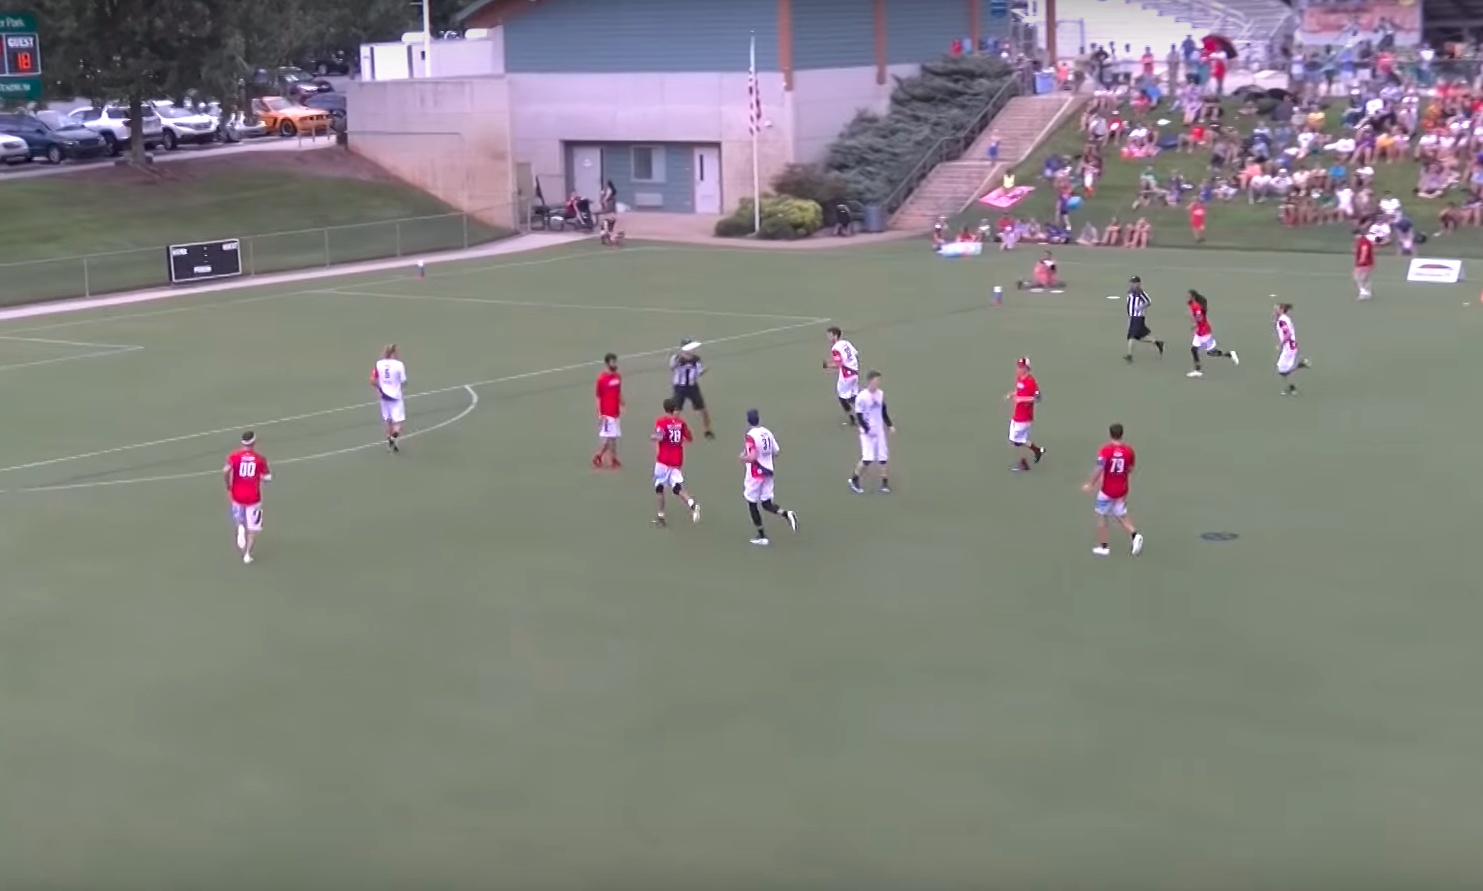frisbee: (681, 341, 702, 352)
